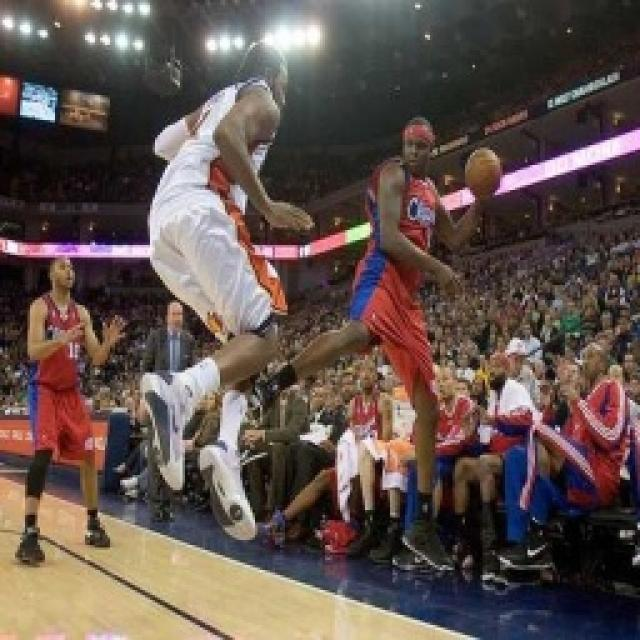rim: (464, 146, 502, 198)
